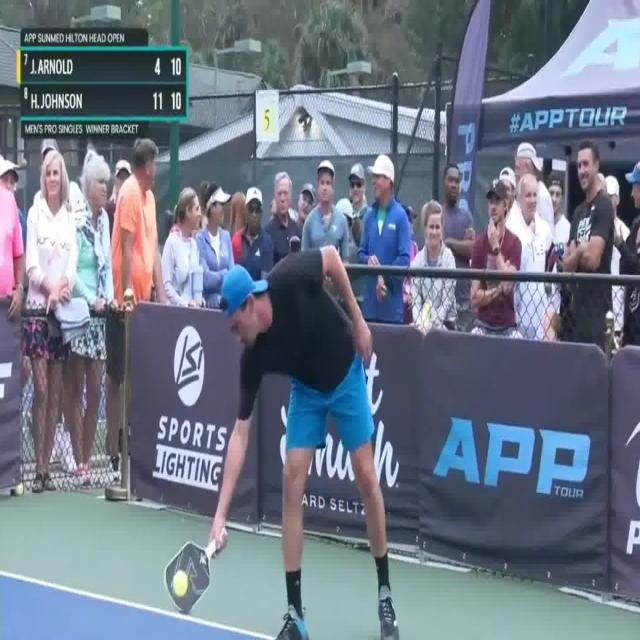ball: (174, 572, 188, 594)
